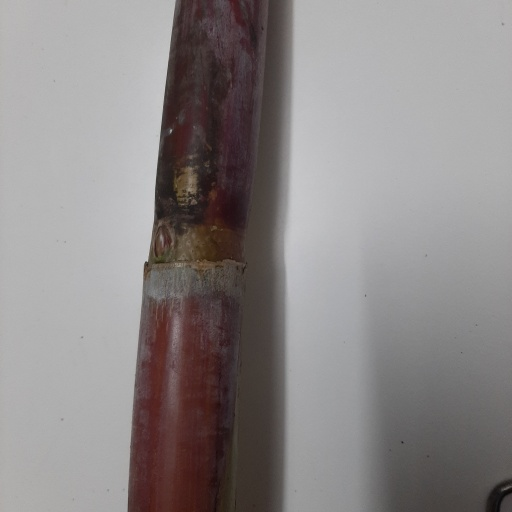Bud: (153, 224, 174, 262)
